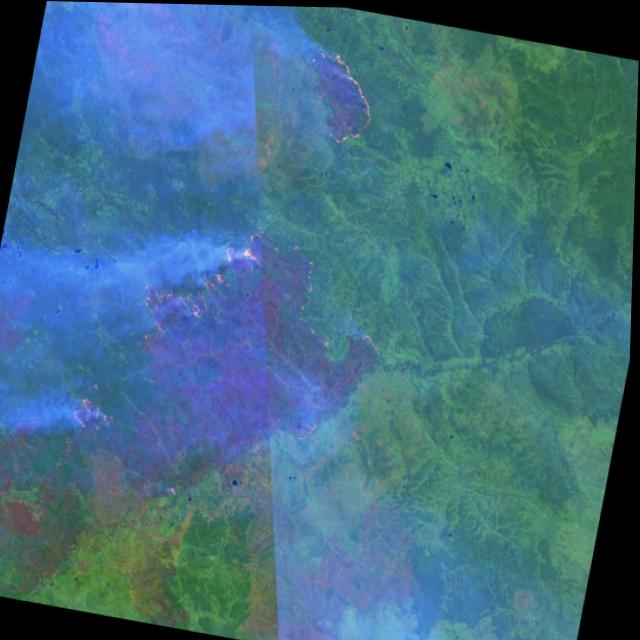fire: (136, 216, 269, 360), (295, 46, 383, 154), (68, 386, 125, 444)
